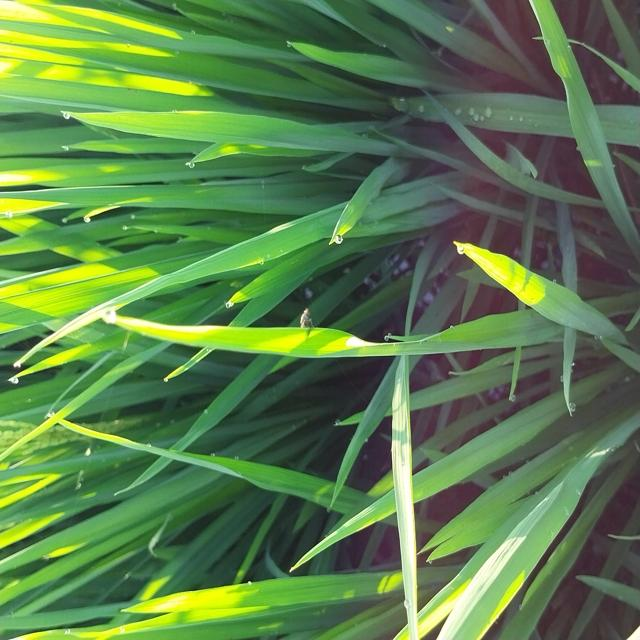healthy: (287, 295, 324, 351)
